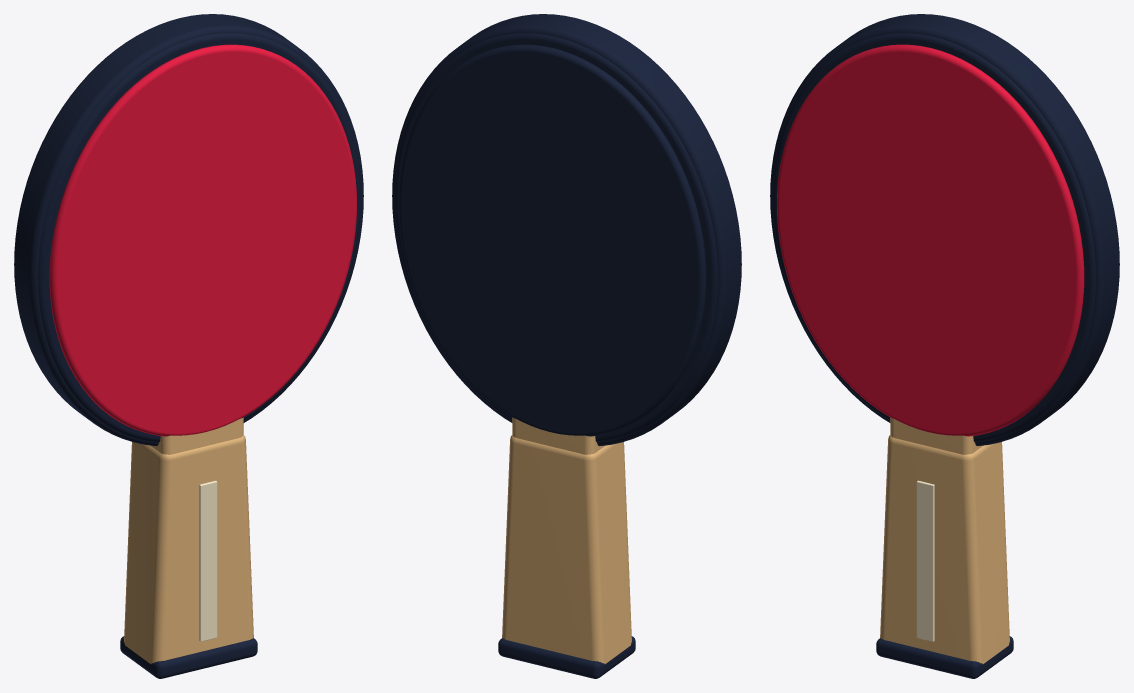
The model's file is RallyRapid.fbx.
3 views of the same model, side by side, from view 1: azimuth 30°, elevation 25°; view 2: azimuth 150°, elevation 25°; view 3: azimuth 330°, elevation 25° (orthographic).
Visible parts, largest first — view 1: FrontRubber, WoodHandle, OuterRim, RimLip, HandleInlay, HandleButt, Neck; view 2: BackRubber, WoodHandle, OuterRim, RimLip, HandleButt, Neck; view 3: FrontRubber, WoodHandle, OuterRim, RimLip, HandleInlay, HandleButt, Neck.
Part boxes in pixels (x1,y1,x2,y2): FrontRubber: (49,44,356,436); WoodHandle: (124,435,253,663); OuterRim: (14,14,363,446); RimLip: (38,33,361,442); HandleInlay: (199,480,217,641); HandleButt: (120,636,257,678); Neck: (151,417,243,454); BackRubber: (399,44,706,436); WoodHandle: (502,435,631,663); OuterRim: (392,14,741,446); RimLip: (394,33,717,442); HandleButt: (498,636,635,678); Neck: (512,417,604,454); FrontRubber: (777,44,1084,436); WoodHandle: (880,435,1009,663); OuterRim: (770,14,1119,446); RimLip: (772,33,1095,442); HandleInlay: (916,480,934,641); HandleButt: (876,636,1013,678); Neck: (890,417,982,454).
Bounding box in the file's own units: 49 × 88.65 × 10.2.
